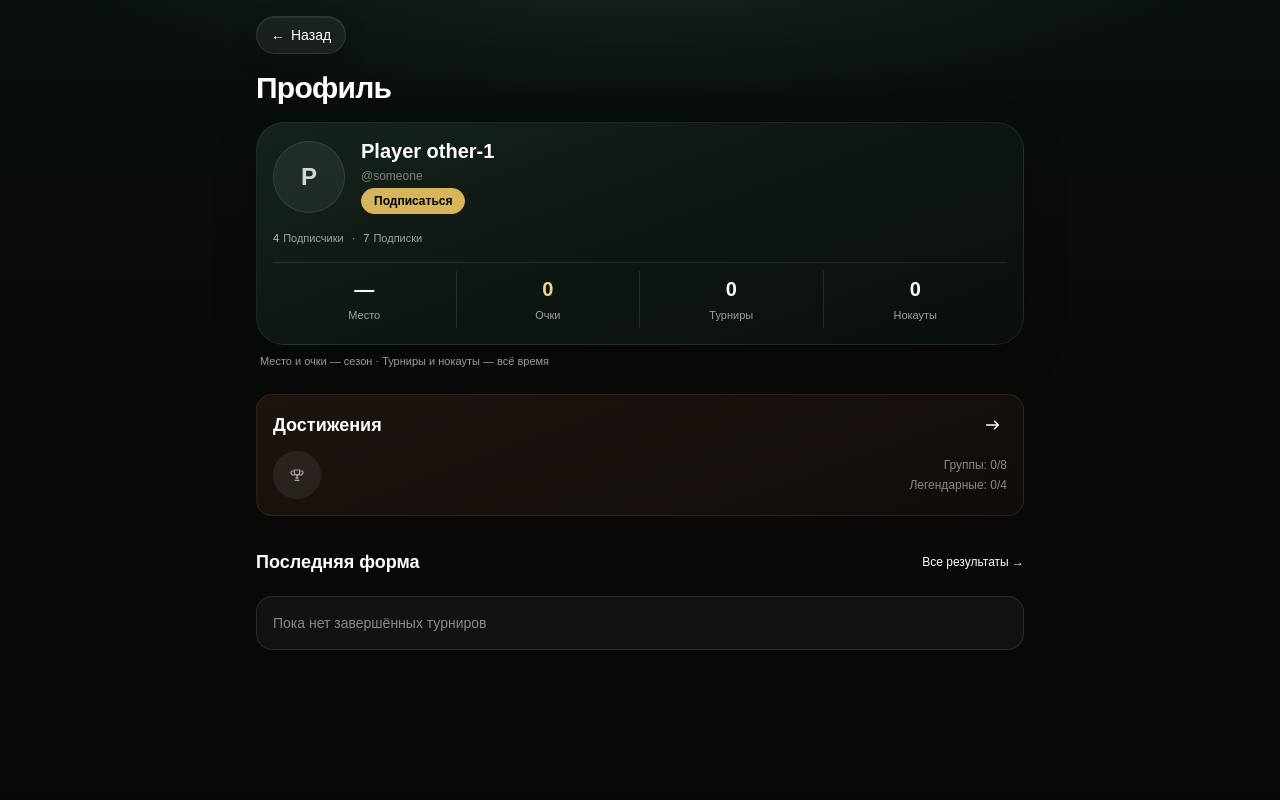
Test: followers / following lists › a list error stays inside the sheet: the profile, Follow button and counters are unaffected
Click the button with test id "follow-followers" at (308, 238), box [273,230,344,246]
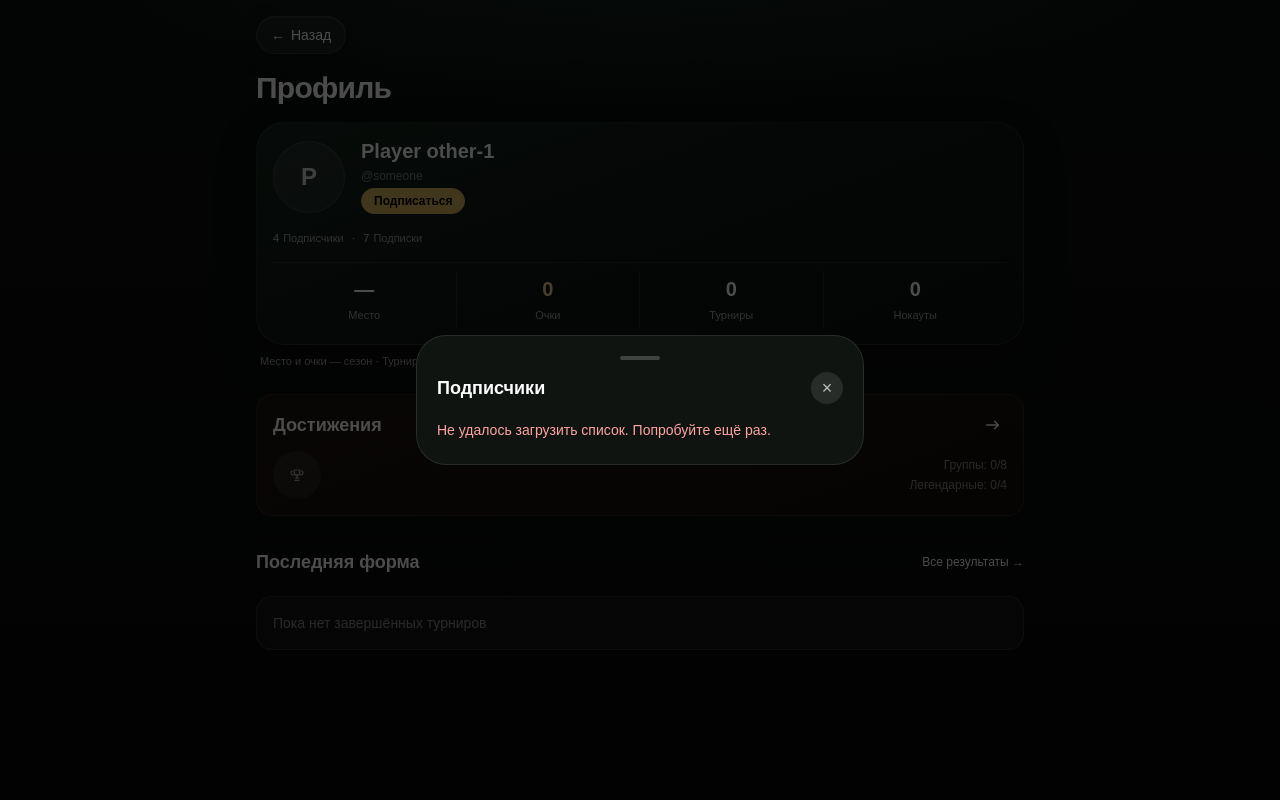
Expected: the text "Player other-1" is shown, [361,139,494,164]
Expected: the dialog shows "Не удалось загрузить список. Попробуйте ещё раз.", [437,422,771,438]
